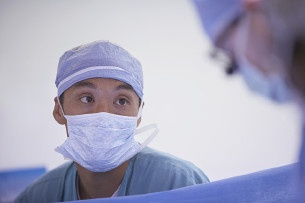Mask: (64, 82, 145, 163)
